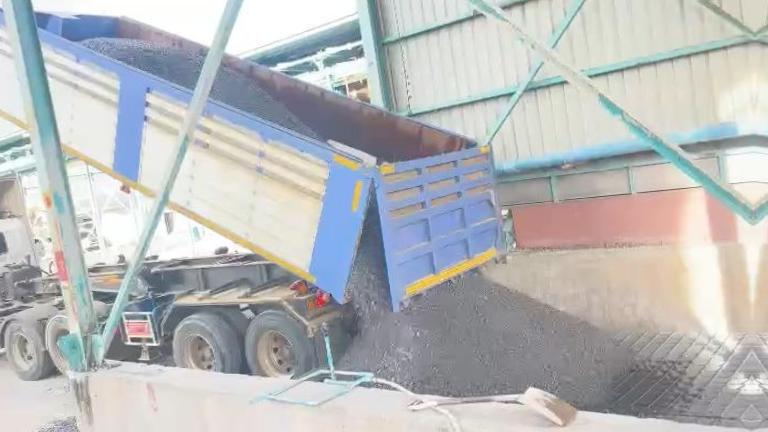gravel: (340, 214, 630, 407), (212, 65, 320, 138), (81, 38, 205, 88), (0, 417, 98, 432)
